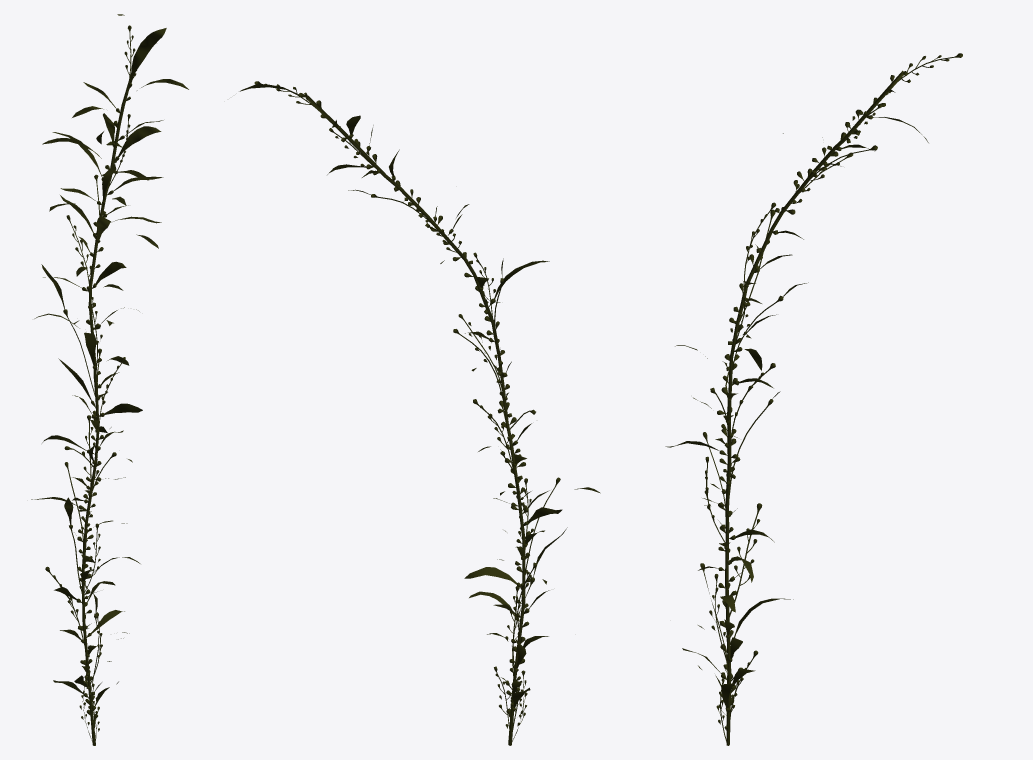
Rendered from SM_ocean_Kelp_bending_01.fbx.
3 renders of one model, left to right at view 1: azimuth 30°, elevation 25°; view 2: azimuth 150°, elevation 25°; view 3: azimuth 270°, elevation 25°, orthographic. The views are drawn at different scales.
Parts seen in each view (by area): view 1: SM_ocean_Kelp_bending_01_LOD0; view 2: SM_ocean_Kelp_bending_01_LOD0; view 3: SM_ocean_Kelp_bending_01_LOD0.
Boxes of the visible parts, <box> form: SM_ocean_Kelp_bending_01_LOD0: <box>31,14,188,745</box>; SM_ocean_Kelp_bending_01_LOD0: <box>239,81,600,745</box>; SM_ocean_Kelp_bending_01_LOD0: <box>665,53,962,745</box>.
Size of what is drawn, in the model's own units: 504 by 567 by 1322.
